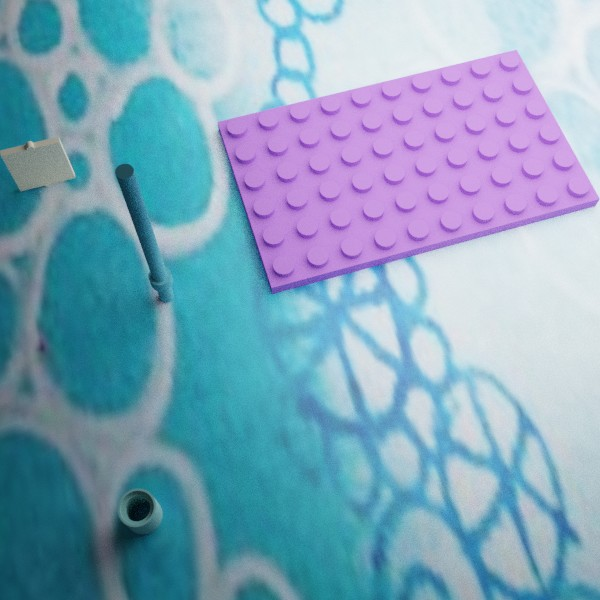lego: (217, 49, 600, 294), (115, 163, 173, 302), (0, 136, 75, 191), (117, 488, 162, 534)
